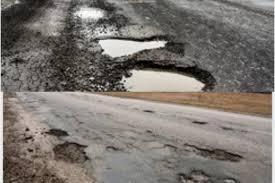Pothole: (61, 26, 184, 66), (113, 66, 224, 98), (31, 122, 91, 167), (174, 135, 250, 163), (167, 162, 241, 183), (63, 0, 123, 24), (143, 127, 177, 157), (88, 125, 120, 154), (221, 125, 252, 137), (184, 118, 214, 126), (138, 107, 153, 116)
